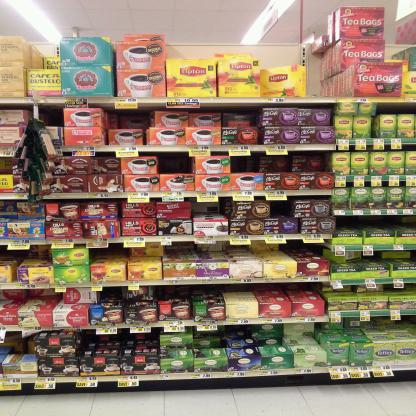Void: (307, 65, 338, 96), (340, 216, 404, 228), (156, 153, 191, 172), (114, 111, 150, 128), (33, 46, 59, 69), (373, 316, 415, 328), (4, 253, 45, 264), (232, 157, 257, 171), (43, 110, 64, 126), (7, 332, 21, 352), (104, 288, 125, 301), (274, 202, 293, 216), (388, 43, 405, 58), (174, 241, 192, 255), (108, 245, 124, 260), (160, 287, 186, 296), (290, 243, 305, 255)
